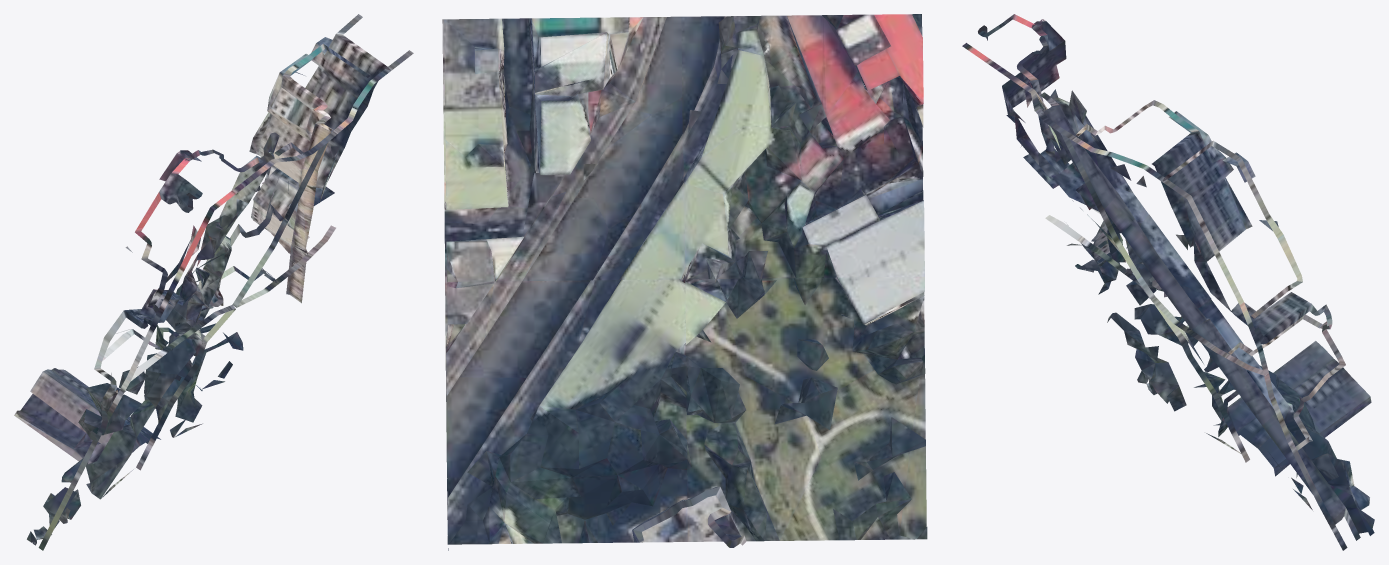
3 renders of one model, left to right at view 1: azimuth 30°, elevation 25°; view 2: azimuth 150°, elevation 25°; view 3: azimuth 270°, elevation 25°, orthographic. The views are drawn at different scales.
Size of the model in its own units: 155 by 150 by 134.
Materials: 1 (1 with a texture image).
